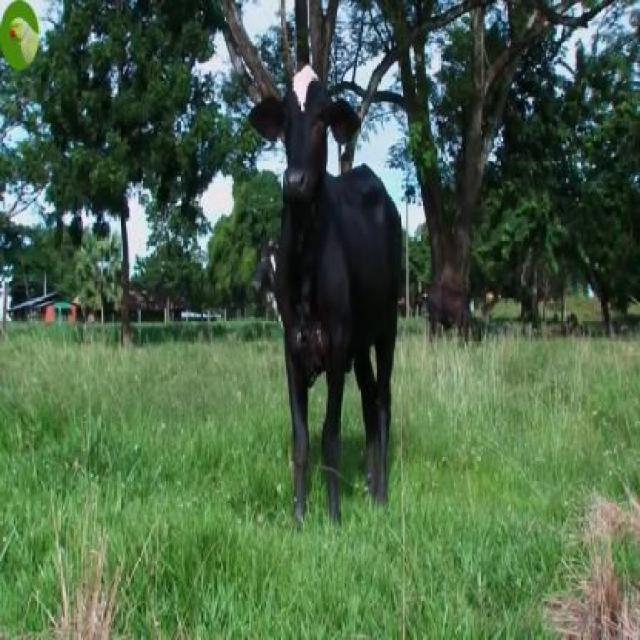Cow: (249, 65, 405, 523)
